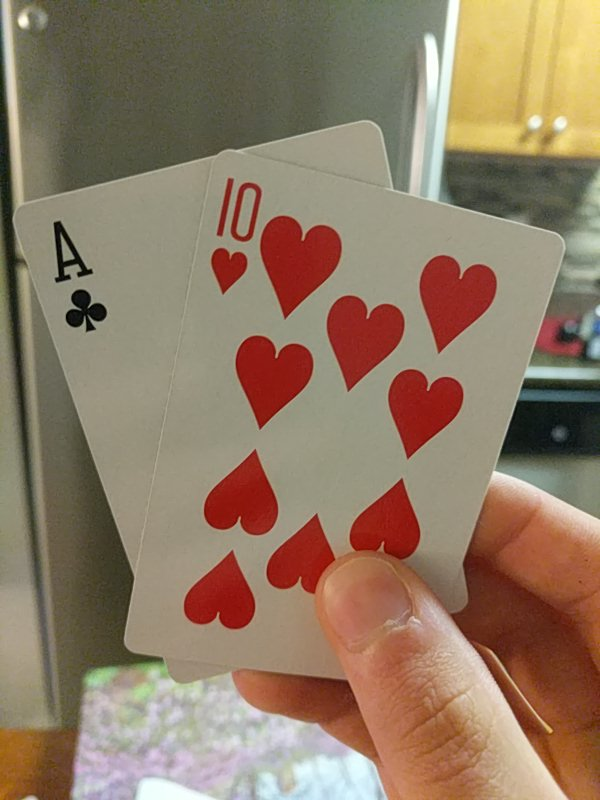Clubs: (13, 121, 401, 604)
Hearts: (121, 146, 563, 680)
